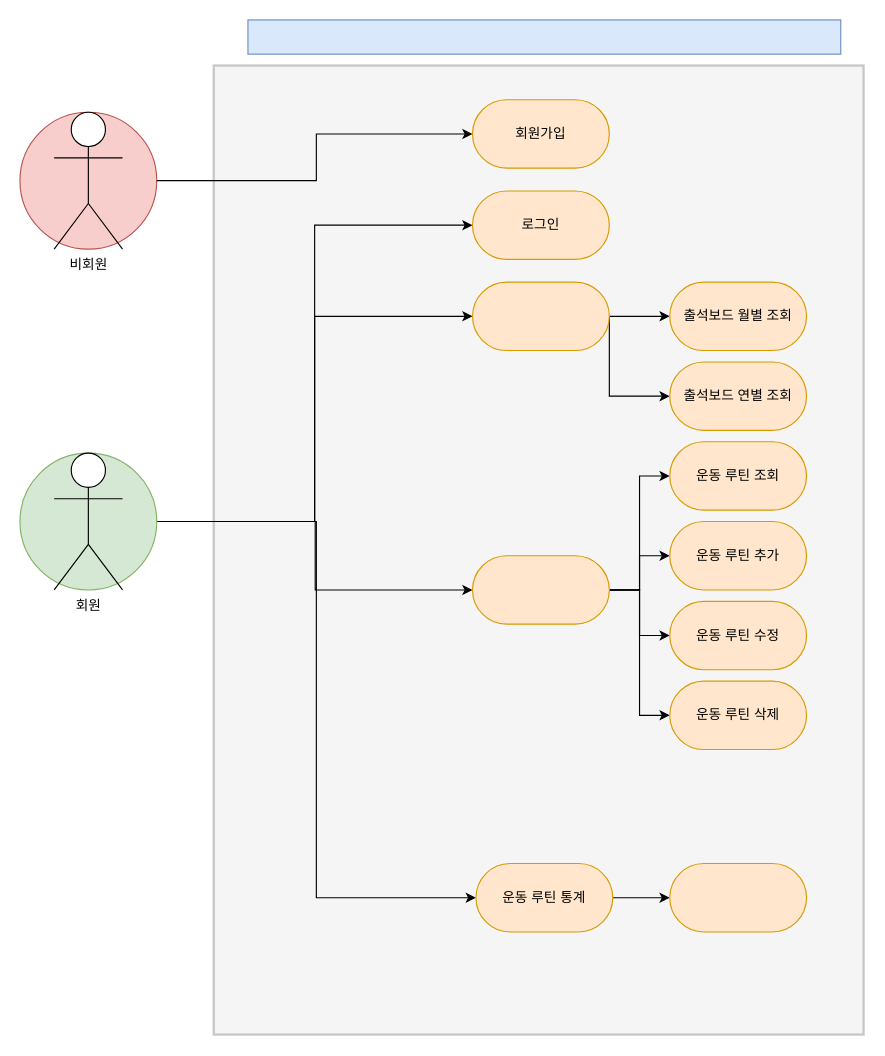
Image size: 885x1056. Some labels were removed from this diagram. The shapes that lost their labels are listed below. From the top down, each one's centre as x and y in pixels, then its label:
At point (544, 36): "Use Case Diagram".
At point (540, 316): "출석체크".
At point (540, 589): "운동 루틴".
At point (738, 897): "월별 조회 차트".
